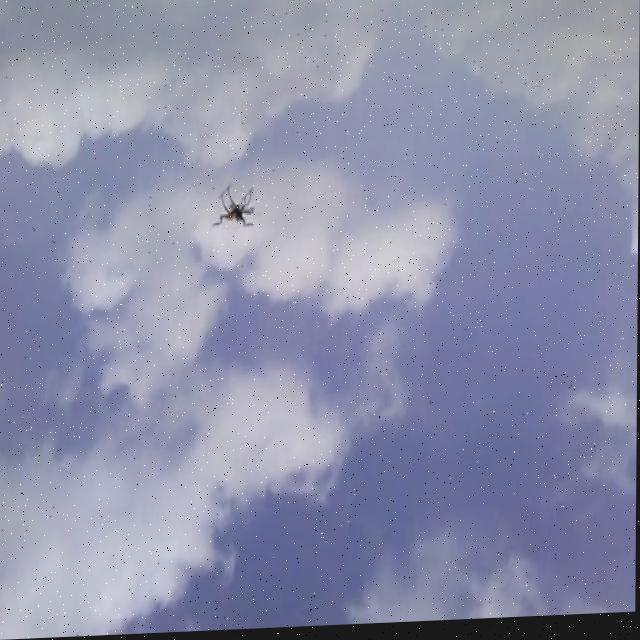drone: (213, 188, 257, 240)
